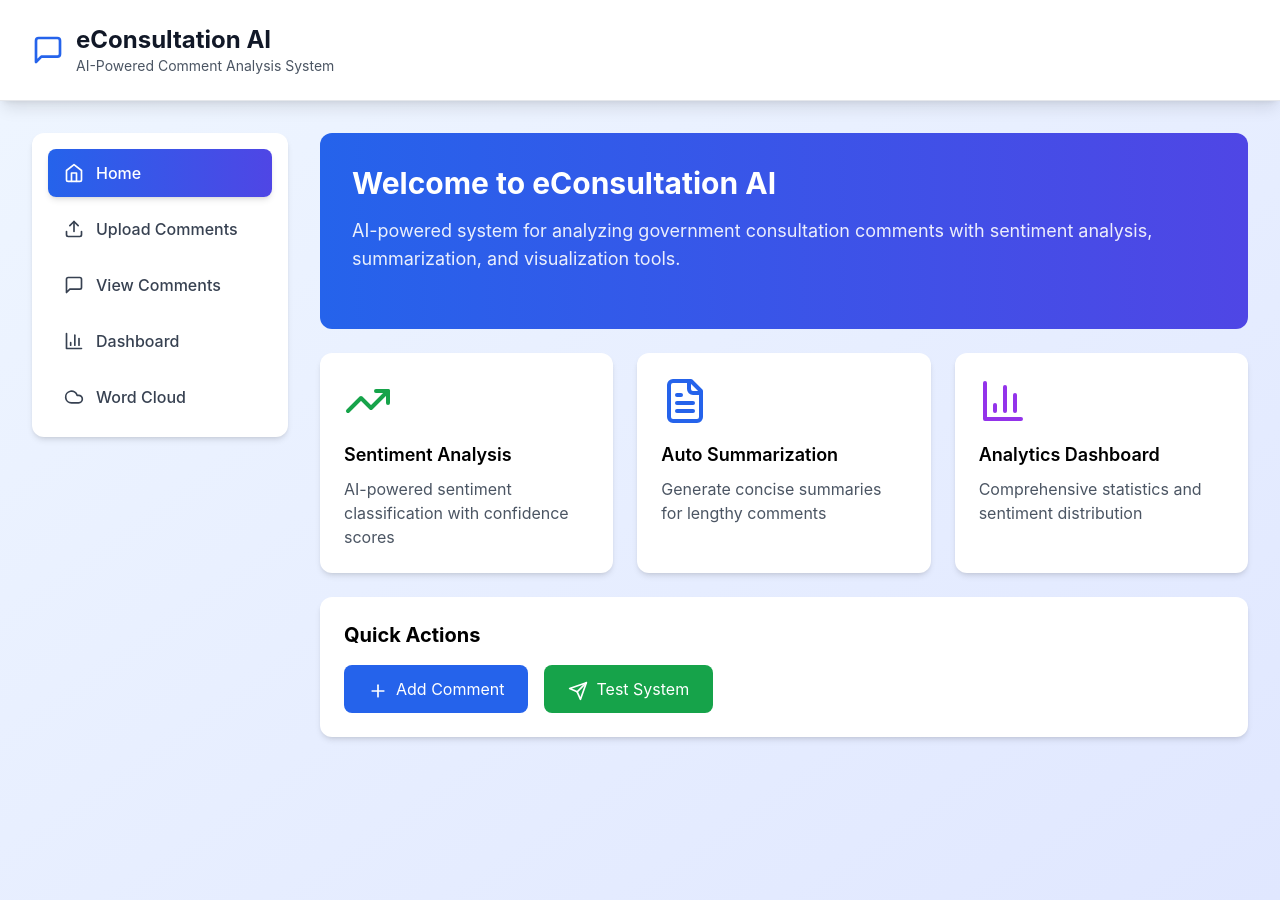
Test: Functionality Preservation Tests › Core Application Features › should preserve dashboard statistics display
The image size is (1280, 900).
# Navigate to dashboard
Click the button "Dashboard" at (160, 341), box x1=48 y1=317 x2=272 y2=365
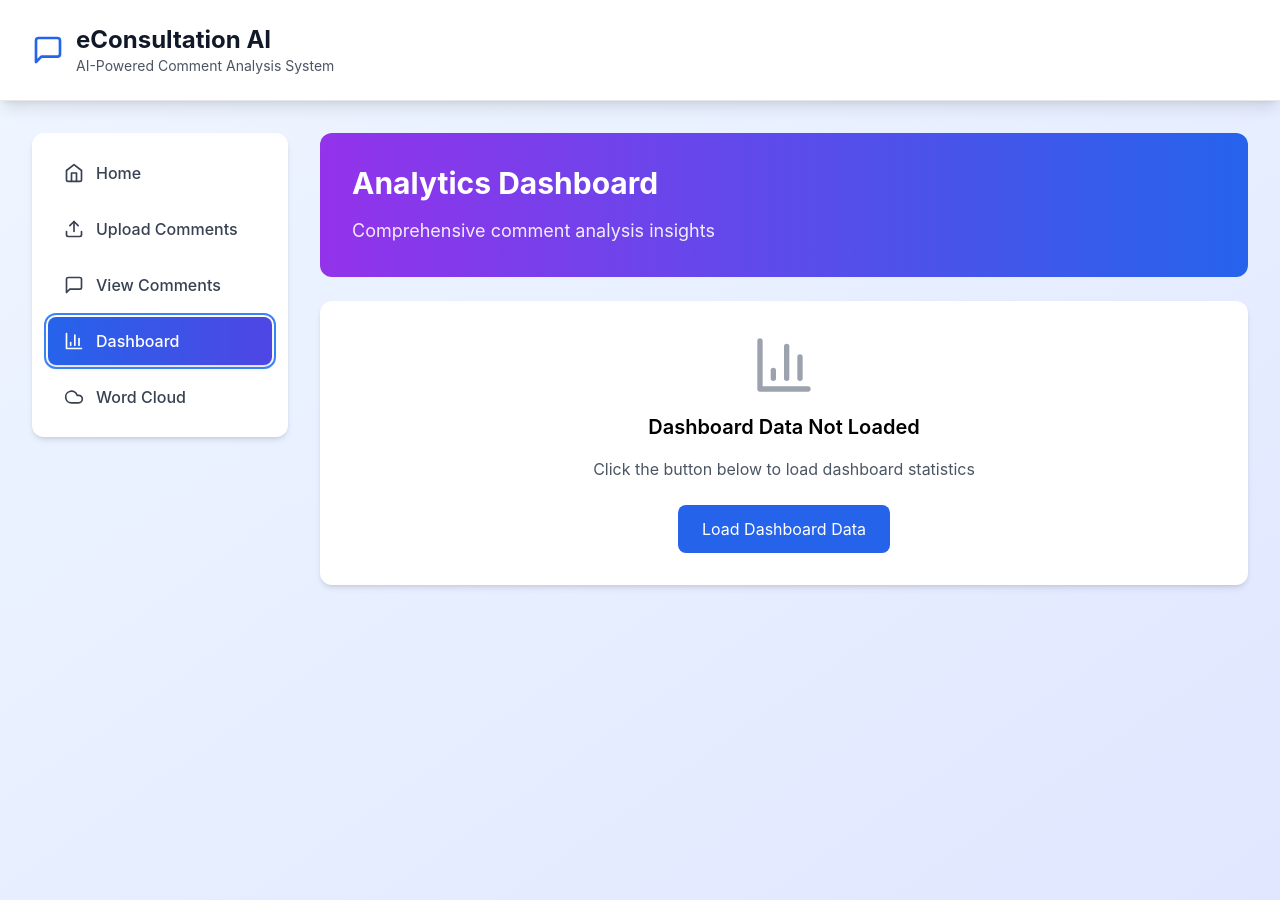
# Load dashboard data
Click the button "Load Dashboard Data" at (784, 529), box x1=678 y1=505 x2=890 y2=553
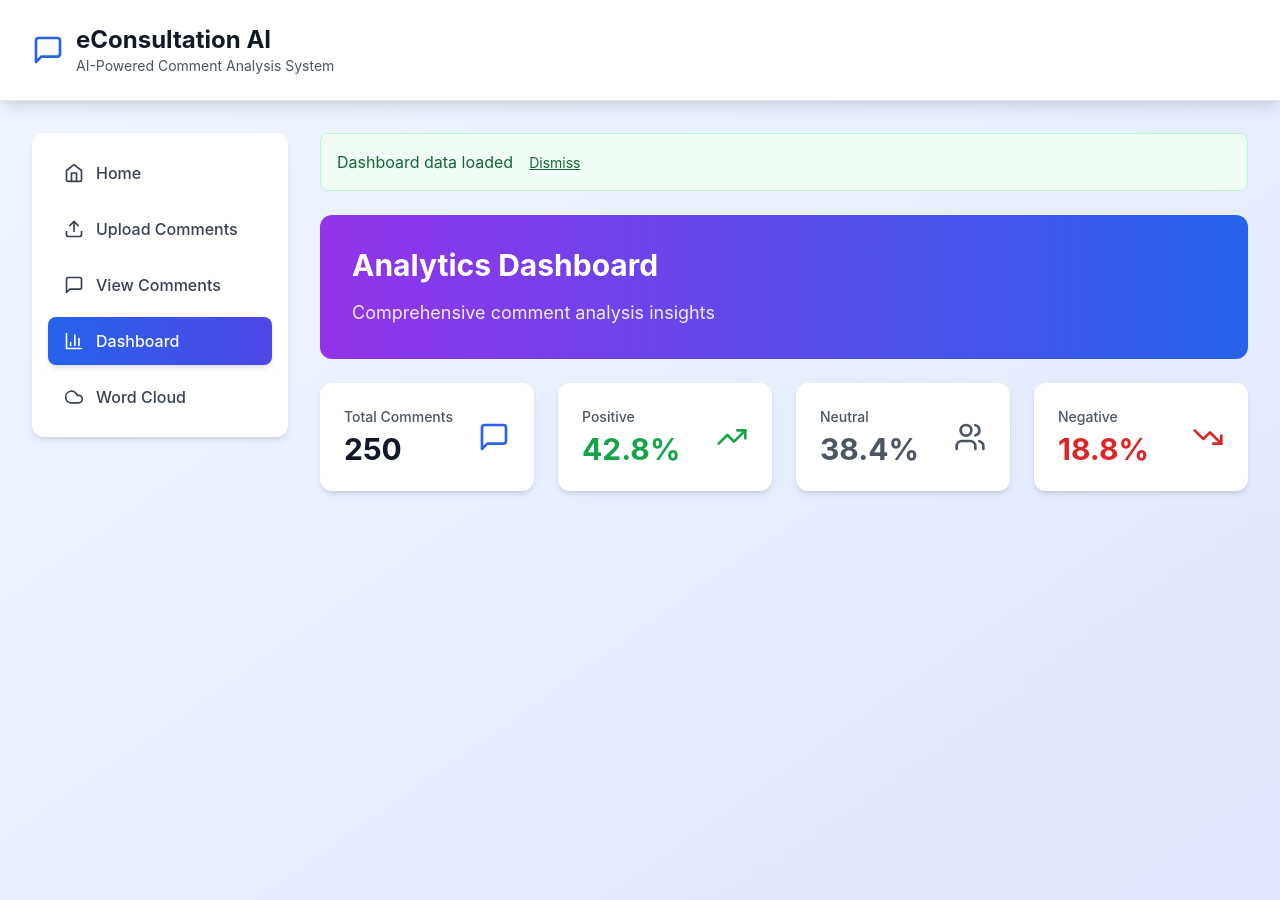
Expected: the text "250" is shown, x1=344 y1=431 x2=402 y2=467
Expected: the text "42.8%" is shown, x1=582 y1=431 x2=680 y2=467
Expected: the text "38.4%" is shown, x1=820 y1=431 x2=919 y2=467
